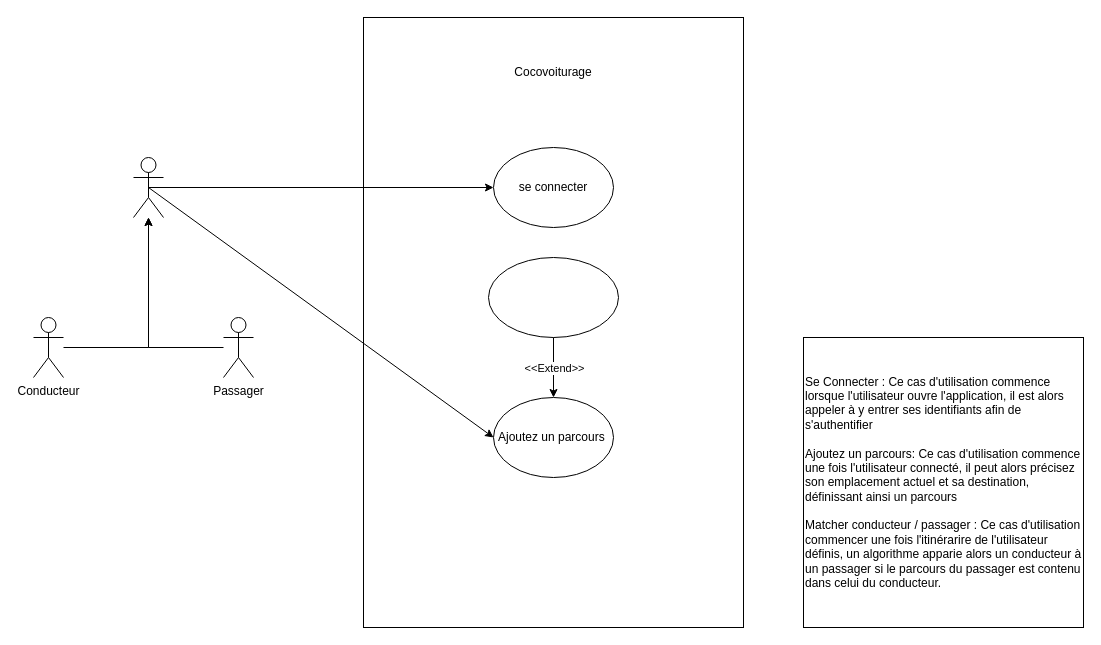
The diagram is 1101 pixels wide and 645 high, and some of its shapes have lost their labels. The shapes that lost their labels are listed below. From the top down, each one's box as (x1, y1, x2, y2) in pixels, then its label:
(132, 156, 164, 218): Utilisateur
(488, 256, 618, 338): Matcher conducteur / passager
